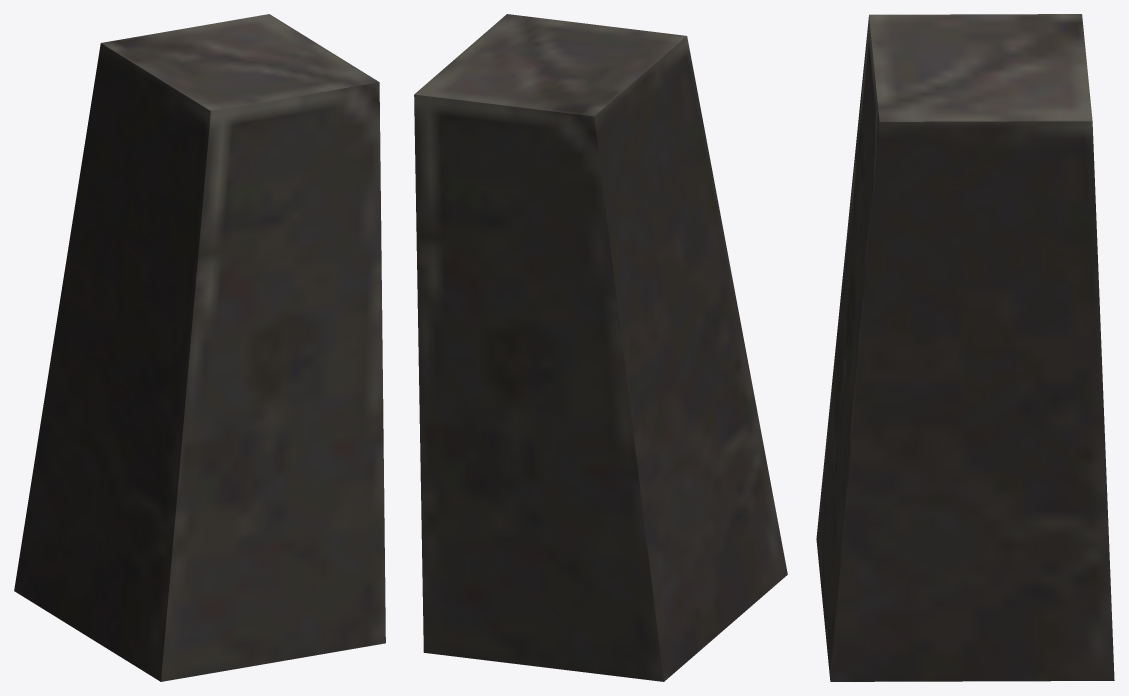
Rendered from common_underground_xiaoweilan01.FBX.
3 renders of one model, left to right at view 1: azimuth 30°, elevation 25°; view 2: azimuth 150°, elevation 25°; view 3: azimuth 270°, elevation 25°, orthographic. The views are drawn at different scales.
Visible parts, largest first — view 1: common_underground_xiaoweilan01; view 2: common_underground_xiaoweilan01; view 3: common_underground_xiaoweilan01.
Part boxes in pixels (<box>): common_underground_xiaoweilan01: <box>14,14,385,681</box>; common_underground_xiaoweilan01: <box>414,14,787,681</box>; common_underground_xiaoweilan01: <box>816,14,1114,681</box>.
Size of the model in its own units: 0.7214 by 1.49 by 0.6784.
